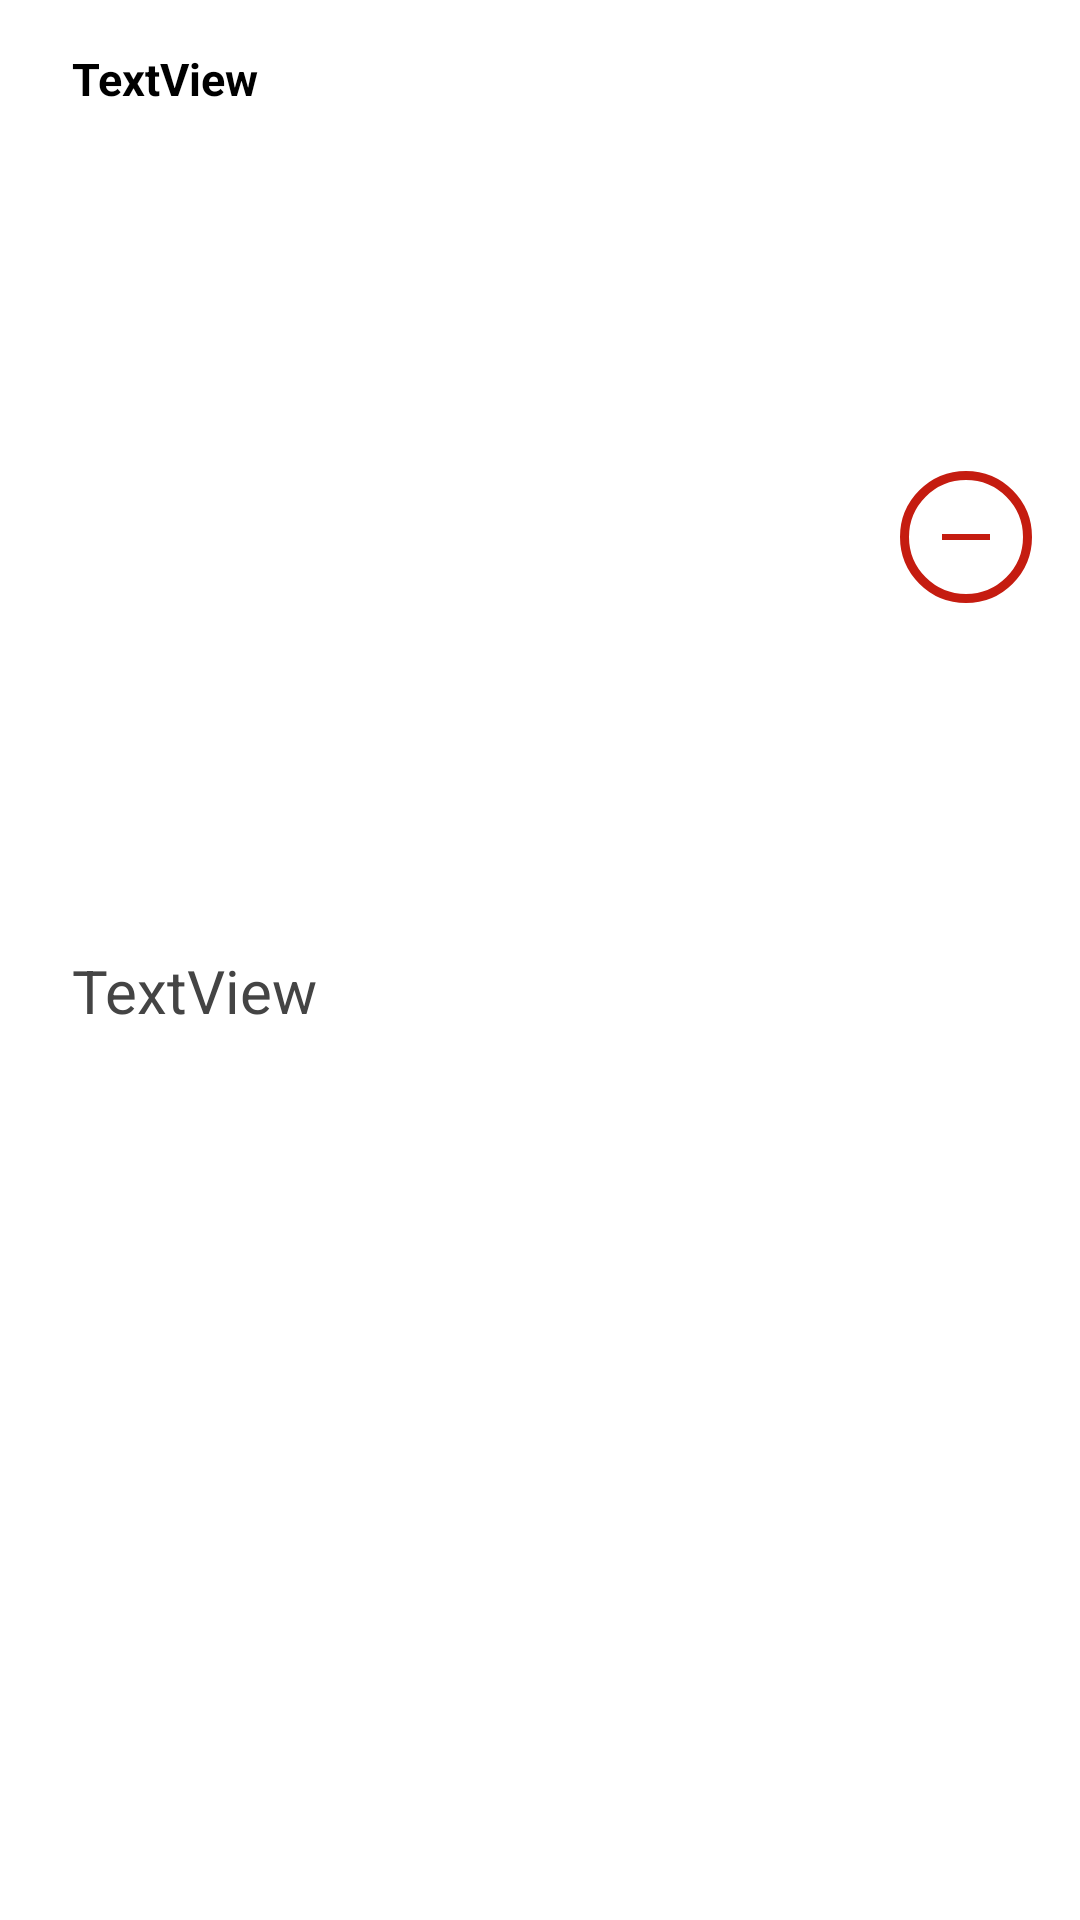

Icon bounding boxes for this 1080×1920 phone screenshot, format (x1, y1, x2, y2):
remove: (900, 471, 1032, 603)
